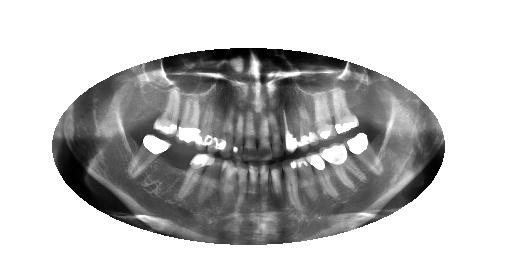i2healthy: (340, 131, 385, 179)
i3healthy: (316, 140, 370, 188)
i4healthy: (302, 149, 340, 200)
i5healthy: (291, 154, 322, 202)
i6healthy: (277, 151, 302, 211)
i7decay: (264, 159, 285, 214)
i8healthy: (255, 158, 271, 216)
i9healthy: (245, 160, 261, 215)
u10decay: (230, 107, 247, 166)
u10healthy: (232, 161, 251, 219)
u11healthy: (215, 156, 242, 220), (217, 107, 236, 160)
u12healthy: (196, 158, 224, 216), (205, 99, 227, 158)
u13healthy: (176, 150, 217, 208), (192, 94, 215, 152)
u14healthy: (174, 92, 204, 152)
u14loss: (142, 139, 197, 211)
u15healthy: (129, 129, 173, 183), (151, 85, 184, 142)
u3healthy: (327, 82, 362, 138)
u4healthy: (308, 83, 341, 143)
u5healthy: (294, 97, 322, 152)
u6healthy: (278, 103, 304, 156)
u7decay: (266, 109, 284, 161)
u8decay: (256, 109, 275, 164)
u9healthy: (239, 106, 258, 163)
